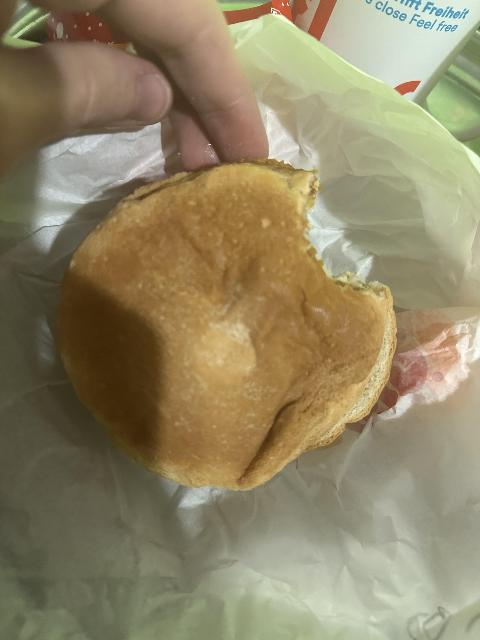Organik: (49, 163, 398, 487)
